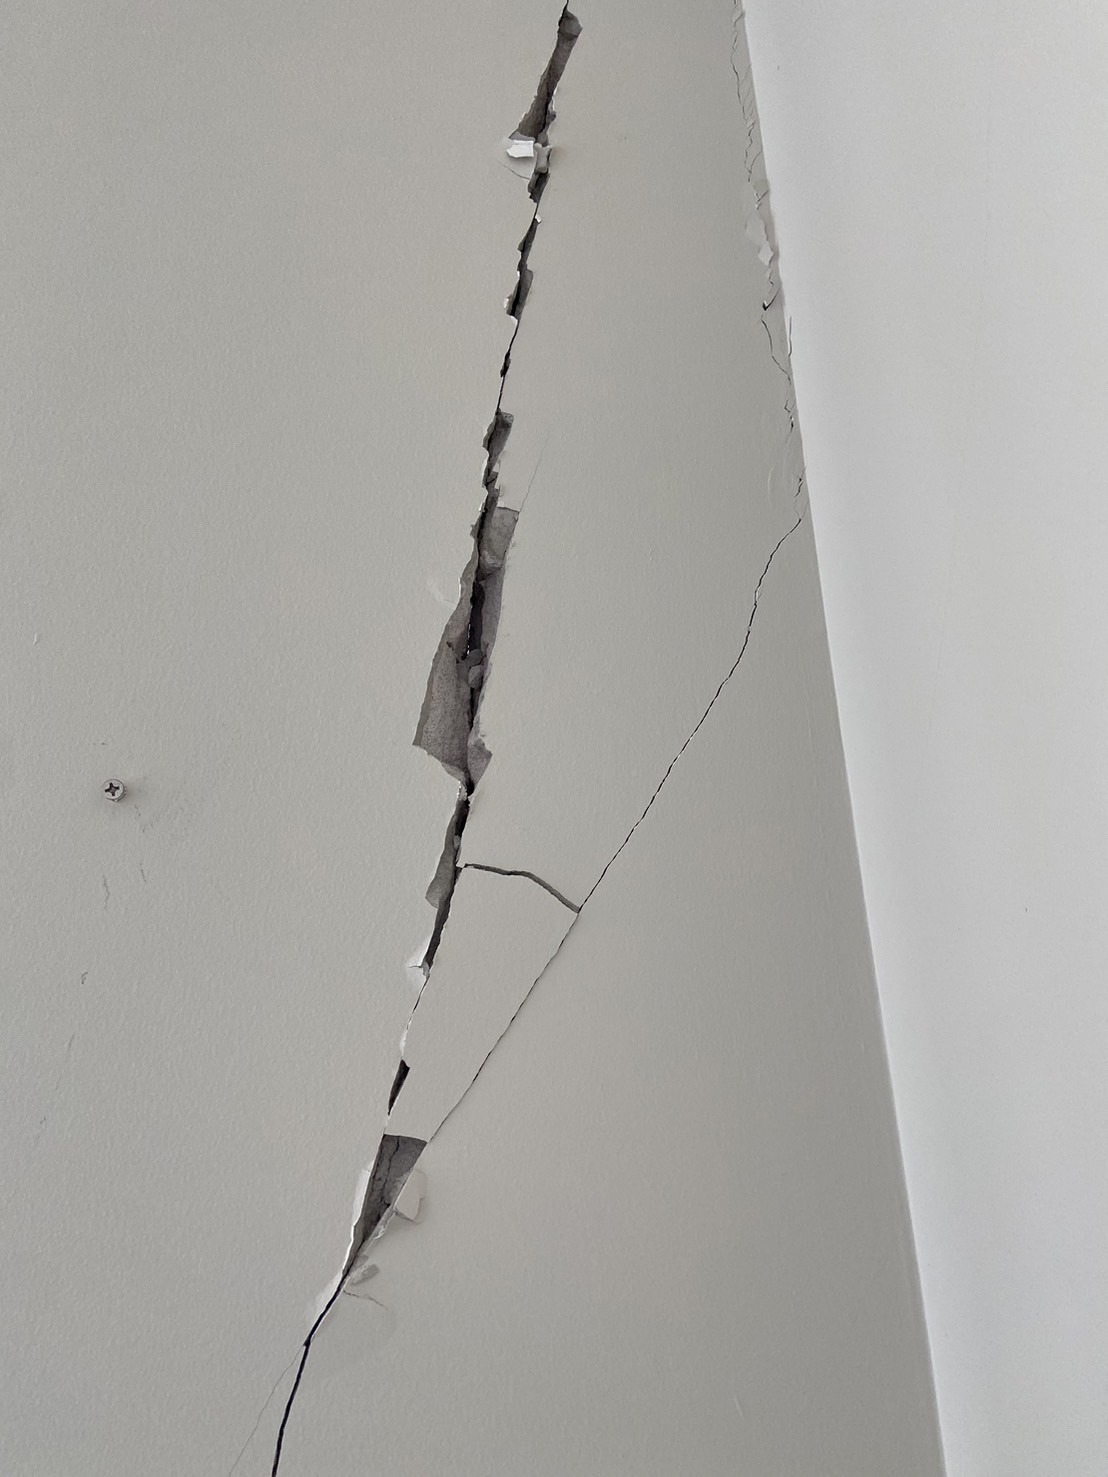Medium: (240, 10, 688, 1365)
